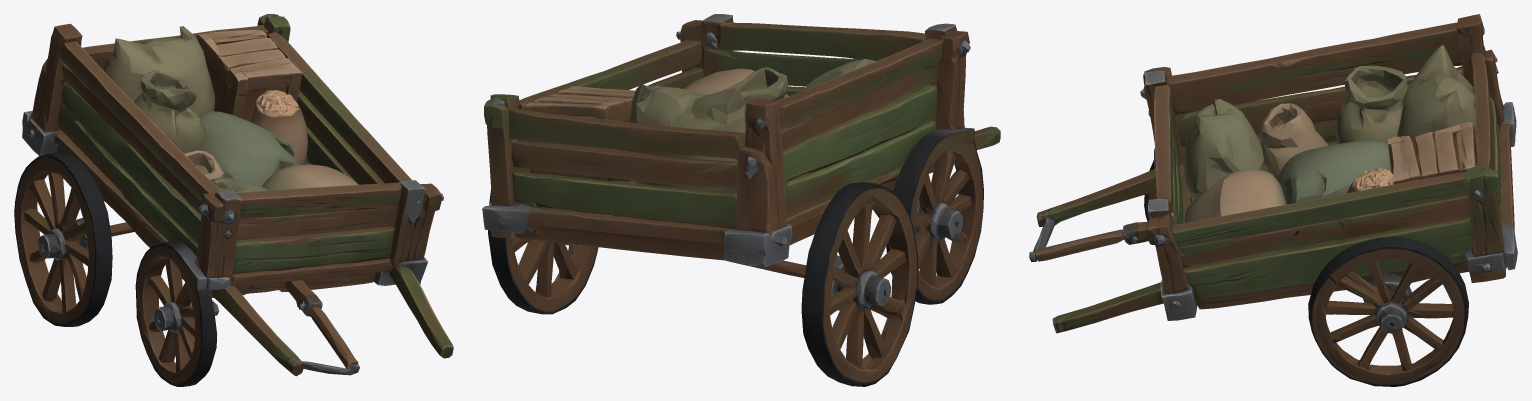
Rendered from base_basic_pbr.glb.
3 renders of one model, left to right at view 1: azimuth 30°, elevation 25°; view 2: azimuth 150°, elevation 25°; view 3: azimuth 270°, elevation 25°, orthographic. The views are drawn at different scales.
Parts seen in each view (by area): view 1: Mesh; view 2: Mesh; view 3: Mesh.
Part boxes in pixels (x1=…): Mesh: x1=14, y1=14, x2=453, y2=386; Mesh: x1=482, y1=14, x2=1000, y2=386; Mesh: x1=1029, y1=14, x2=1517, y2=386.
Bounding box in the file's own units: 1.37 × 1.11 × 1.88.
Materials: 1 (1 with a texture image).
